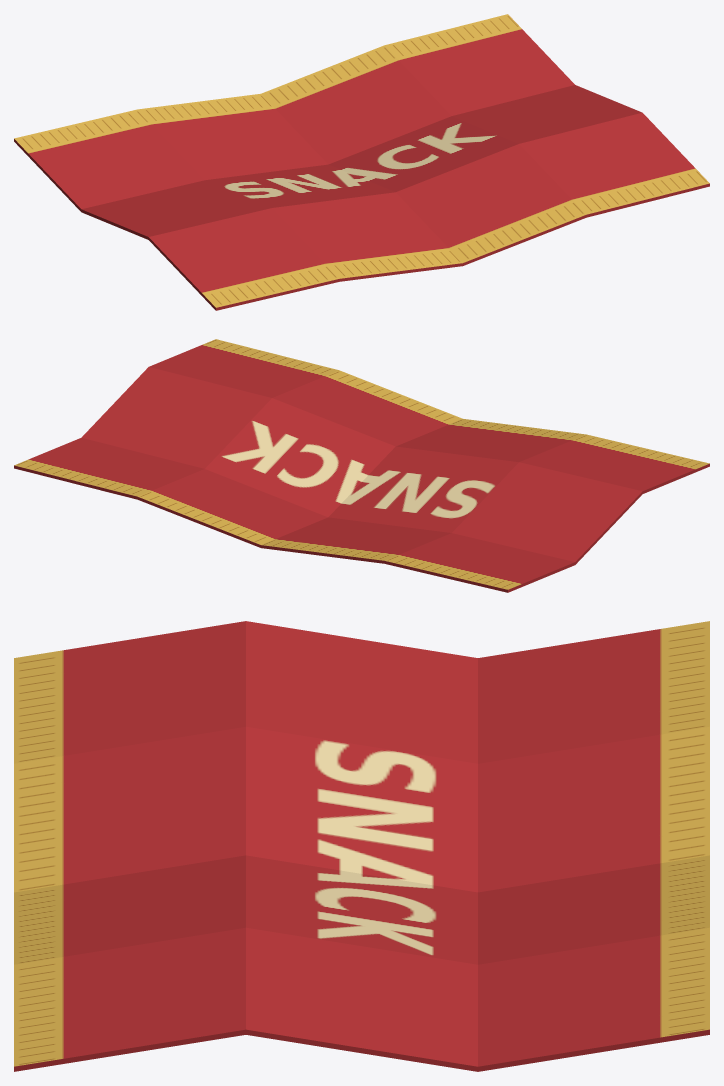
The model's file is litter_wrapper.glb.
3 renders of one model, top to bottom at view 1: azimuth 30°, elevation 25°; view 2: azimuth 150°, elevation 25°; view 3: azimuth 270°, elevation 25°, orthographic. The views are drawn at different scales.
Parts seen in each view (by area): view 1: litter_wrapper; view 2: litter_wrapper; view 3: litter_wrapper.
Boxes of the visible parts, box(x1,y1,x2,y2) form: litter_wrapper: box(14, 14, 709, 310); litter_wrapper: box(14, 339, 709, 592); litter_wrapper: box(14, 621, 709, 1071).
Size of the model in its own units: 0.12 by 0.0102 by 0.085.
1 material, 1 textured.
